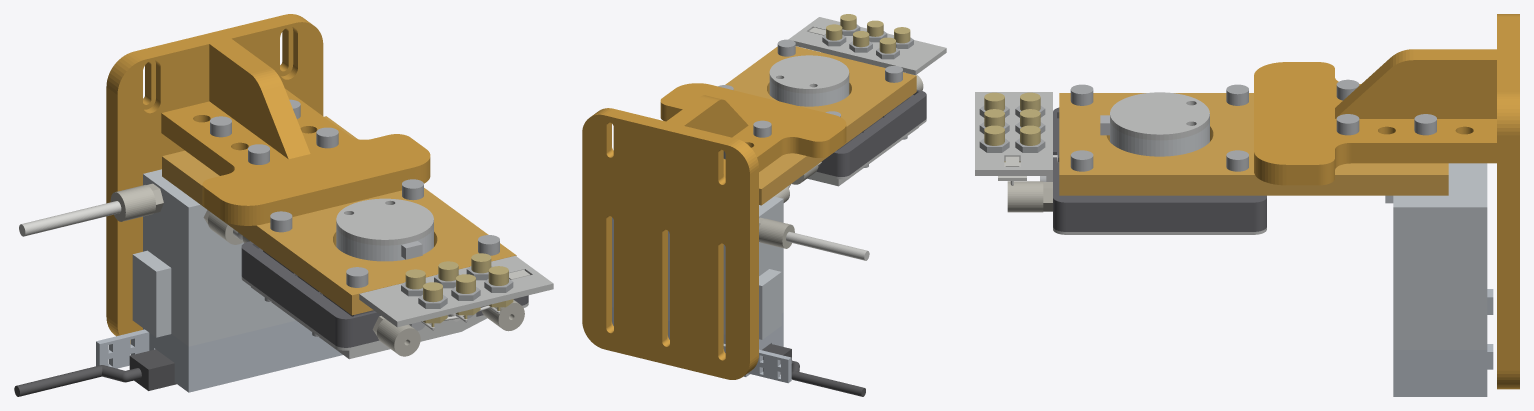
3 renders of one model, left to right at view 1: azimuth 30°, elevation 25°; view 2: azimuth 150°, elevation 25°; view 3: azimuth 270°, elevation 25°, orthographic. The views are drawn at different scales.
Visible parts, largest first — view 1: Grace 2025 앵글 브래킷 "angle bracket for Ramen holder.STEP" (형상 , [배기 블록 v2] 배기 센서 블록 본체 PETG 60x29x48.5 (가스 몸 17.5 + 센서 칸 31,, Grace 새 세로판 60x120x7 (재출력, 레진 가정), Ø4.5 x4 48x48, 가운데 Ø33 구멍, [배기 블록 v2] 덮개 PETG 60x29x16 (판 2 + Pico 트레이 14): Pico 보스 4, , 셀 몸체 Al 6061 흑색 아노다이징 70x66x10 R4 (포켓 31x31x4.5 R1.5, 블록 자리 , 커넥터 브래킷 Al (밑판 26x18x2 + 판 57x24x2): SMA 구멍 Ø6.5 x6 (3열 x 2행, 퍽 Al 방열 원판 Ø30.8x2 (가정, PETG 벽 끝에 2액형 에폭시), 나사 공구 구멍 Ø3.2 x2, [배기 블록 v2] USB 케이블 (노트북으로, 타이로 선반에 고정; 노트북은 허치 안 가능), SMA 암 판넬 잭 x6 (SAMZO SMA-KY-214형, 가정): 육각 어깨 AF 8 x 3 (판 앞),, 가스 KQ2H04-M5 x2 윗면 (+X 입구, −X 예비 N2/He), Ø2 → 앞면 (±19, +22), M4x12 렌치볼트 x4 (판 뒤에서 몸체 M4 탭으로, 머리 Ø7x4), 텐트 틀 Al: 플랜지 1.0 (몸체 외곽, 안쪽 X -28.5…24.9, Z ±28.5) + 벽 2.5,  (+6 smaller); view 2: Grace 2025 앵글 브래킷 "angle bracket for Ramen holder.STEP" (형상 , Grace 새 세로판 60x120x7 (재출력, 레진 가정), Ø4.5 x4 48x48, 가운데 Ø33 구멍, 셀 몸체 Al 6061 흑색 아노다이징 70x66x10 R4 (포켓 31x31x4.5 R1.5, 블록 자리 , [배기 블록 v2] 배기 센서 블록 본체 PETG 60x29x48.5 (가스 몸 17.5 + 센서 칸 31,, 커넥터 브래킷 Al (밑판 26x18x2 + 판 57x24x2): SMA 구멍 Ø6.5 x6 (3열 x 2행, 퍽 Al 방열 원판 Ø30.8x2 (가정, PETG 벽 끝에 2액형 에폭시), 나사 공구 구멍 Ø3.2 x2, SMA 암 판넬 잭 x6 (SAMZO SMA-KY-214형, 가정): 육각 어깨 AF 8 x 3 (판 앞),, [배기 블록 v2] 덮개 PETG 60x29x16 (판 2 + Pico 트레이 14): Pico 보스 4, , 뒤 빛 퍽 PETG Ø30.8 (앞 플랜지 2 = 앞 턱 0.5 (Ø19) + 뒤 자리 Ø20.4x1.5, , [배기 블록 v2] USB 케이블 (노트북으로, 타이로 선반에 고정; 노트북은 허치 안 가능), [배기 블록 v2] 배출 PU 관 Ø4 (토막만 그림, 실제 >= 300 mm), SMA 너트 AF 8 (모서리 9.24) x 2 x6 (판 뒷면 Y 18–20; 평면이 ±X를 봄 → 렌치는 (+4 smaller); view 3: Grace 2025 앵글 브래킷 "angle bracket for Ramen holder.STEP" (형상 , Grace 새 세로판 60x120x7 (재출력, 레진 가정), Ø4.5 x4 48x48, 가운데 Ø33 구멍, [배기 블록 v2] 배기 센서 블록 본체 PETG 60x29x48.5 (가스 몸 17.5 + 센서 칸 31,, 셀 몸체 Al 6061 흑색 아노다이징 70x66x10 R4 (포켓 31x31x4.5 R1.5, 블록 자리 , [배기 블록 v2] 덮개 PETG 60x29x16 (판 2 + Pico 트레이 14): Pico 보스 4, , 퍽 Al 방열 원판 Ø30.8x2 (가정, PETG 벽 끝에 2액형 에폭시), 나사 공구 구멍 Ø3.2 x2, 커넥터 브래킷 Al (밑판 26x18x2 + 판 57x24x2): SMA 구멍 Ø6.5 x6 (3열 x 2행, SMA 암 판넬 잭 x6 (SAMZO SMA-KY-214형, 가정): 육각 어깨 AF 8 x 3 (판 앞),, M4x12 렌치볼트 x4 (판 뒤에서 몸체 M4 탭으로, 머리 Ø7x4), 뒤 빛 퍽 PETG Ø30.8 (앞 플랜지 2 = 앞 턱 0.5 (Ø19) + 뒤 자리 Ø20.4x1.5, , 가스 KQ2H04-M5 x2 윗면 (+X 입구, −X 예비 N2/He), Ø2 → 앞면 (±19, +22), M4x16 볼트 + 너트 x4 (판 아래 구멍 ↔ 브래킷 세움판 Ø5.6 구멍 y 29/53) (+2 smaller).
Boxes of the visible parts, <box> form: Grace 2025 앵글 브래킷 "angle bracket for Ramen holder.STEP" (형상 : <box>106,14,430,343</box>; [배기 블록 v2] 배기 센서 블록 본체 PETG 60x29x48.5 (가스 몸 17.5 + 센서 칸 31,: <box>132,169,295,346</box>; Grace 새 세로판 60x120x7 (재출력, 레진 가정), Ø4.5 x4 48x48, 가운데 Ø33 구멍: <box>162,116,516,315</box>; [배기 블록 v2] 덮개 PETG 60x29x16 (판 2 + Pico 트레이 14): Pico 보스 4, : <box>96,320,342,392</box>; 셀 몸체 Al 6061 흑색 아노다이징 70x66x10 R4 (포켓 31x31x4.5 R1.5, 블록 자리 : <box>241,241,528,347</box>; 커넥터 브래킷 Al (밑판 26x18x2 + 판 57x24x2): SMA 구멍 Ø6.5 x6 (3열 x 2행: <box>359,255,553,333</box>; 퍽 Al 방열 원판 Ø30.8x2 (가정, PETG 벽 끝에 2액형 에폭시), 나사 공구 구멍 Ø3.2 x2: <box>336,198,433,245</box>; [배기 블록 v2] USB 케이블 (노트북으로, 타이로 선반에 고정; 노트북은 허치 안 가능): <box>14,349,176,396</box>; SMA 암 판넬 잭 x6 (SAMZO SMA-KY-214형, 가정): 육각 어깨 AF 8 x 3 (판 앞),: <box>405,253,513,327</box>; 가스 KQ2H04-M5 x2 윗면 (+X 입구, −X 예비 N2/He), Ø2 → 앞면 (±19, +22): <box>372,299,524,356</box>; M4x12 렌치볼트 x4 (판 뒤에서 몸체 M4 탭으로, 머리 Ø7x4): <box>270,179,499,287</box>; 텐트 틀 Al: 플랜지 1.0 (몸체 외곽, 안쪽 X -28.5…24.9, Z ±28.5) + 벽 2.5, : <box>241,276,528,358</box>; Grace 2025 앵글 브래킷 "angle bracket for Ramen holder.STEP" (형상 : <box>582,83,846,379</box>; Grace 새 세로판 60x120x7 (재출력, 레진 가정), Ø4.5 x4 48x48, 가운데 Ø33 구멍: <box>725,46,916,205</box>; 셀 몸체 Al 6061 흑색 아노다이징 70x66x10 R4 (포켓 31x31x4.5 R1.5, 블록 자리 : <box>816,89,926,176</box>; [배기 블록 v2] 배기 센서 블록 본체 PETG 60x29x48.5 (가스 몸 17.5 + 센서 칸 31,: <box>612,196,783,339</box>; 커넥터 브래킷 Al (밑판 26x18x2 + 판 57x24x2): SMA 구멍 Ø6.5 x6 (3열 x 2행: <box>788,17,946,75</box>; 퍽 Al 방열 원판 Ø30.8x2 (가정, PETG 벽 끝에 2액형 에폭시), 나사 공구 구멍 Ø3.2 x2: <box>769,55,849,93</box>; SMA 암 판넬 잭 x6 (SAMZO SMA-KY-214형, 가정): 육각 어깨 AF 8 x 3 (판 앞),: <box>826,14,910,67</box>; [배기 블록 v2] 덮개 PETG 60x29x16 (판 2 + Pico 트레이 14): Pico 보스 4, : <box>612,307,791,383</box>; 뒤 빛 퍽 PETG Ø30.8 (앞 플랜지 2 = 앞 턱 0.5 (Ø19) + 뒤 자리 Ø20.4x1.5, : <box>769,78,849,106</box>; [배기 블록 v2] USB 케이블 (노트북으로, 타이로 선반에 고정; 노트북은 허치 안 가능): <box>762,344,865,396</box>; [배기 블록 v2] 배출 PU 관 Ø4 (토막만 그림, 실제 >= 300 mm): <box>786,231,869,260</box>; SMA 너트 AF 8 (모서리 9.24) x 2 x6 (판 뒷면 Y 18–20; 평면이 ±X를 봄 → 렌치는: <box>822,24,913,59</box>; Grace 2025 앵글 브래킷 "angle bracket for Ramen holder.STEP" (형상 : <box>1254,14,1519,389</box>; Grace 새 세로판 60x120x7 (재출력, 레진 가정), Ø4.5 x4 48x48, 가운데 Ø33 구멍: <box>1059,93,1448,195</box>; [배기 블록 v2] 배기 센서 블록 본체 PETG 60x29x48.5 (가스 몸 17.5 + 센서 칸 31,: <box>1385,163,1487,349</box>; 셀 몸체 Al 6061 흑색 아노다이징 70x66x10 R4 (포켓 31x31x4.5 R1.5, 블록 자리 : <box>1053,107,1266,231</box>; [배기 블록 v2] 덮개 PETG 60x29x16 (판 2 + Pico 트레이 14): Pico 보스 4, : <box>1393,289,1493,396</box>; 퍽 Al 방열 원판 Ø30.8x2 (가정, PETG 벽 끝에 2액형 에폭시), 나사 공구 구멍 Ø3.2 x2: <box>1110,92,1209,140</box>; 커넥터 브래킷 Al (밑판 26x18x2 + 판 57x24x2): SMA 구멍 Ø6.5 x6 (3열 x 2행: <box>975,92,1052,181</box>; SMA 암 판넬 잭 x6 (SAMZO SMA-KY-214형, 가정): 육각 어깨 AF 8 x 3 (판 앞),: <box>984,92,1040,162</box>; M4x12 렌치볼트 x4 (판 뒤에서 몸체 M4 탭으로, 머리 Ø7x4): <box>1070,84,1248,171</box>; 뒤 빛 퍽 PETG Ø30.8 (앞 플랜지 2 = 앞 턱 0.5 (Ø19) + 뒤 자리 Ø20.4x1.5, : <box>1110,120,1209,156</box>; 가스 KQ2H04-M5 x2 윗면 (+X 입구, −X 예비 N2/He), Ø2 → 앞면 (±19, +22): <box>1007,181,1052,212</box>; M4x16 볼트 + 너트 x4 (판 아래 구멍 ↔ 브래킷 세움판 Ø5.6 구멍 y 29/53): <box>1336,79,1436,135</box>.
Bounding box in the file's own units: 117 × 104 × 168.
